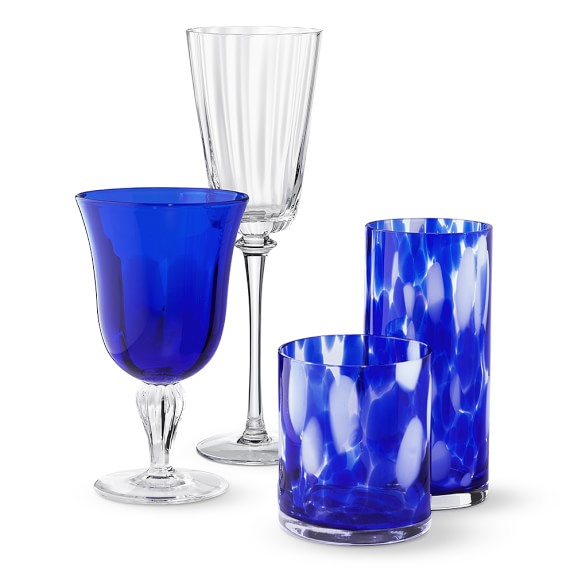Nonrec_Glass: (178, 9, 331, 472), (70, 162, 245, 517), (338, 189, 515, 524), (267, 322, 448, 555)
